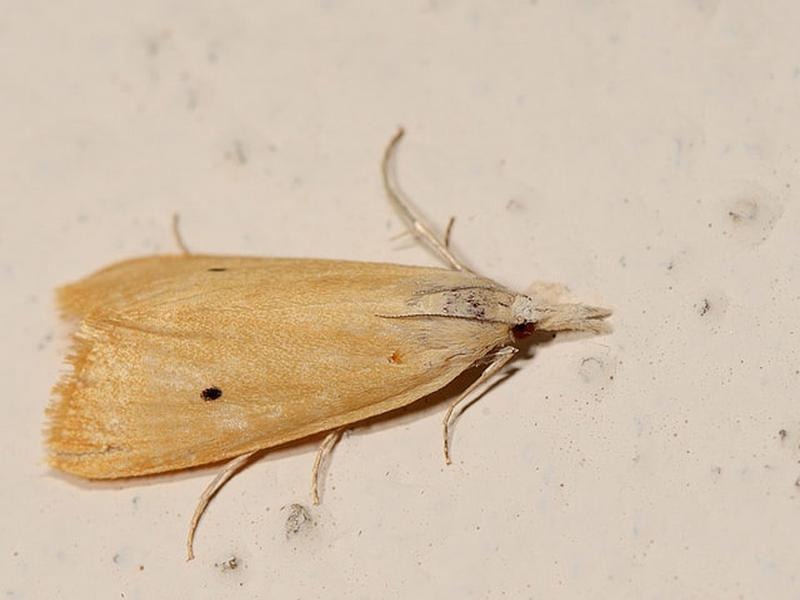Paddy_stemborer: (20, 215, 621, 518)
